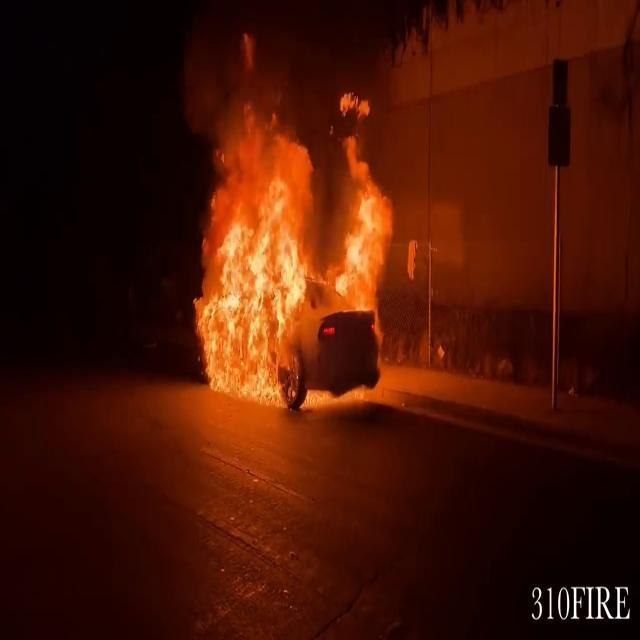Fire: (167, 53, 407, 405)
